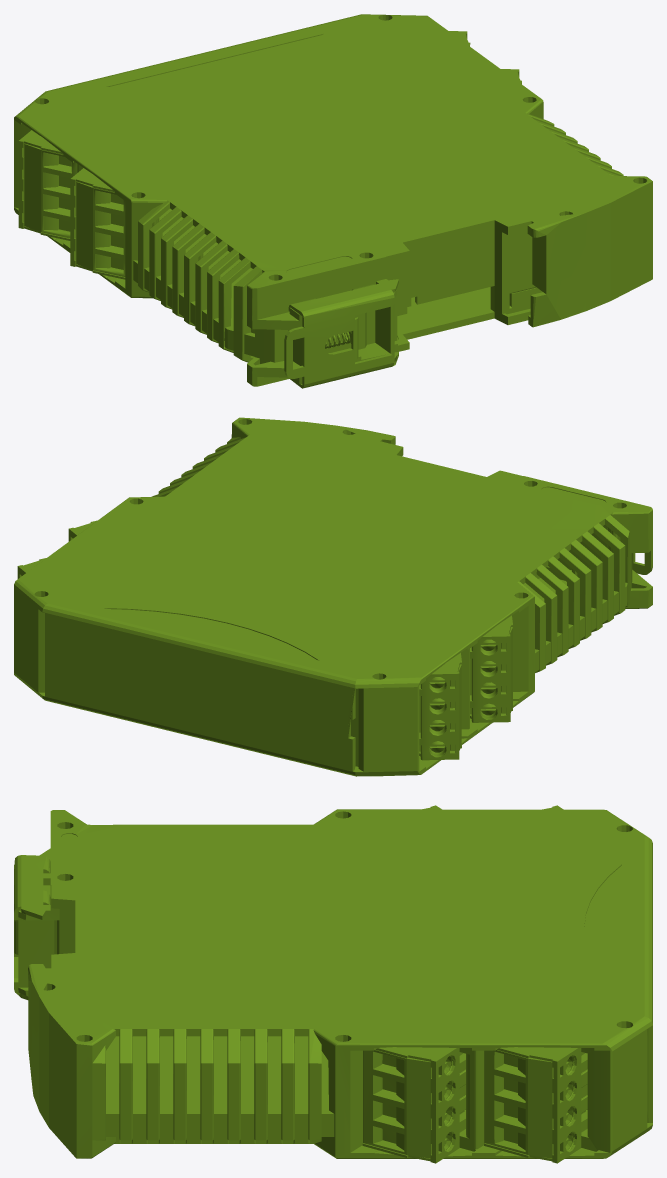
Rendered from BKI-2,00.fbx.
3 renders of one model, top to bottom at view 1: azimuth 30°, elevation 25°; view 2: azimuth 150°, elevation 25°; view 3: azimuth 270°, elevation 25°, orthographic. The views are drawn at different scales.
Parts seen in each view (by area): view 1: BKI-2.00; view 2: BKI-2.00; view 3: BKI-2.00.
Part boxes in pixels (left/top/right/bottom): BKI-2.00: left=14, top=14, right=652, bottom=388; BKI-2.00: left=14, top=417, right=652, bottom=776; BKI-2.00: left=14, top=805, right=652, bottom=1163.
Bounding box in the file's own units: 108 × 22.6 × 114.
